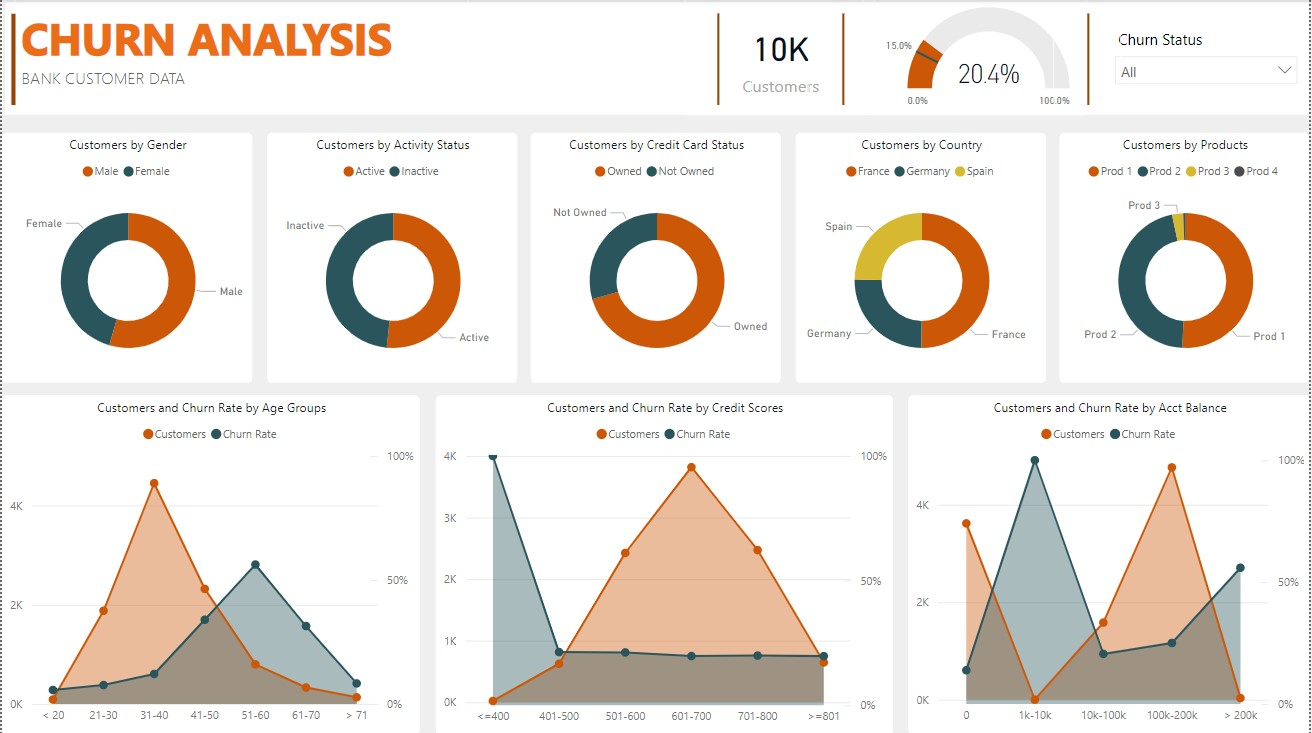

The dashboard page shown, as its layout file describes it:
{"tool":"powerbi","page":{"name":"Page 1","canvas":[1280,720],"ordinal":0},"visuals":[{"type":"shape","box":[0,0,1280,113.8],"z":0},{"type":"card","fields":{"Values":["Customer Data.Customers"]},"box":[666.2,0,188.8,113.8],"z":1000},{"type":"donutChart","fields":{"Category":["Customer Data.Gender"],"Y":["Customer Data.Customers"]},"box":[0,130.5,245,245],"z":2000},{"type":"donutChart","fields":{"Y":["Customer Data.Customers"],"Category":["Customer Data.Activity Status"]},"box":[258.8,130.5,245,245],"z":3000},{"type":"donutChart","fields":{"Y":["Customer Data.Customers"],"Category":["Customer Data.Credit Card Status"]},"box":[517.5,130.5,245,245],"z":4000},{"type":"donutChart","fields":{"Y":["Customer Data.Customers"],"Category":["Customer Data.Country"]},"box":[776.2,130.5,245,245],"z":5000},{"type":"donutChart","fields":{"Y":["Customer Data.Customers"],"Category":["Customer Data.Products"]},"box":[1035,130.5,245,245],"z":6000},{"type":"areaChart","fields":{"Category":["Age Groups.Age Groups"],"Y":["Customer Data.Customers"],"Y2":["Customer Data.Churn Rate"]},"box":[0,387.7,408.8,331.2],"z":7000},{"type":"areaChart","fields":{"Category":["Credit Scores Groups.Credit Scores"],"Y":["Customer Data.Customers"],"Y2":["Customer Data.Churn Rate"]},"box":[423.8,387.1,447.5,332.5],"z":8000},{"type":"areaChart","fields":{"Category":["Acct Balance Groups.Acct Balance"],"Y":["Customer Data.Customers"],"Y2":["Customer Data.Churn Rate"]},"box":[886.2,387.7,393.8,331.2],"z":9000},{"type":"slicer","fields":{"Values":["Customer Data.Churn Status"]},"box":[1076.2,21.2,203.8,72.5],"z":10000},{"type":"gauge","fields":{"TargetValue":["Max(Customer Data.Target Churn Rate)"],"Y":["Customer Data.Churn Rate"],"MinValue":["Min(Customer Data.Min Churn Rate)"],"MaxValue":["Max(Customer Data.Max Churn Rate)"]},"box":[840,0,222.5,113.8],"z":11000},{"type":"textbox","box":[11.2,0,446.2,72.5],"z":12000},{"type":"textbox","box":[11.2,57.5,223.8,36.2],"z":13000},{"type":"shape","box":[666.2,11.2,66.2,93.8],"z":14000},{"type":"shape","box":[788.8,11.2,66.2,93.8],"z":14001},{"type":"shape","box":[1028.8,11.2,66.2,93.8],"z":14002},{"type":"shape","box":[0,11.2,20,93.8],"z":14003}]}

Visuals, with their boxes in screenshot pixels (x1, y1, x2, y2), scaled from the page's 1280x720 canvas onto the 1312x733 screenshot:
shape: l=0, t=0, r=1311, b=116
card - Customer Data.Customers: l=683, t=0, r=876, b=116
donutChart - Customer Data.Gender x Customer Data.Customers: l=0, t=133, r=251, b=382
donutChart - Customer Data.Customers x Customer Data.Activity Status: l=265, t=133, r=516, b=382
donutChart - Customer Data.Customers x Customer Data.Credit Card Status: l=530, t=133, r=782, b=382
donutChart - Customer Data.Customers x Customer Data.Country: l=796, t=133, r=1047, b=382
donutChart - Customer Data.Customers x Customer Data.Products: l=1061, t=133, r=1311, b=382
areaChart - Age Groups.Age Groups x Customer Data.Customers: l=0, t=395, r=419, b=732
areaChart - Credit Scores Groups.Credit Scores x Customer Data.Customers: l=434, t=394, r=893, b=732
areaChart - Acct Balance Groups.Acct Balance x Customer Data.Customers: l=908, t=395, r=1311, b=732
slicer - Customer Data.Churn Status: l=1103, t=22, r=1311, b=95
gauge - Max(Customer Data.Target Churn Rate) x Customer Data.Churn Rate: l=861, t=0, r=1089, b=116
textbox: l=11, t=0, r=469, b=74
textbox: l=11, t=59, r=241, b=95
shape: l=683, t=11, r=751, b=107
shape: l=809, t=11, r=876, b=107
shape: l=1055, t=11, r=1122, b=107
shape: l=0, t=11, r=20, b=107
